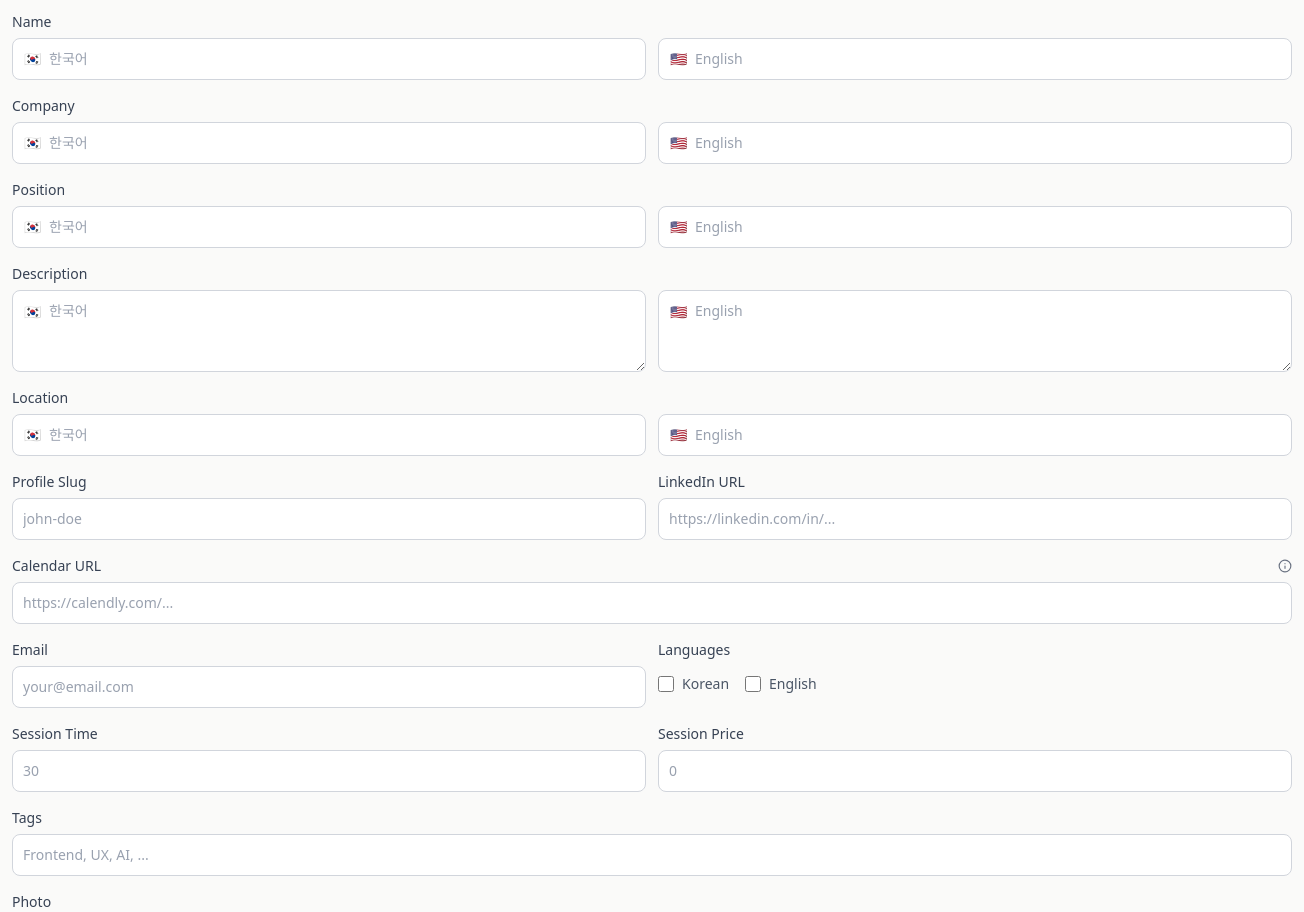
Test: ProfileForm › tag parsing › should normalize display value after blur
Step 1. Type "  React  ,  Node.js  " into the field with placeholder "Frontend, UX, AI, ..." → [652, 855], box top-left (12, 834), bottom-right (1292, 876)
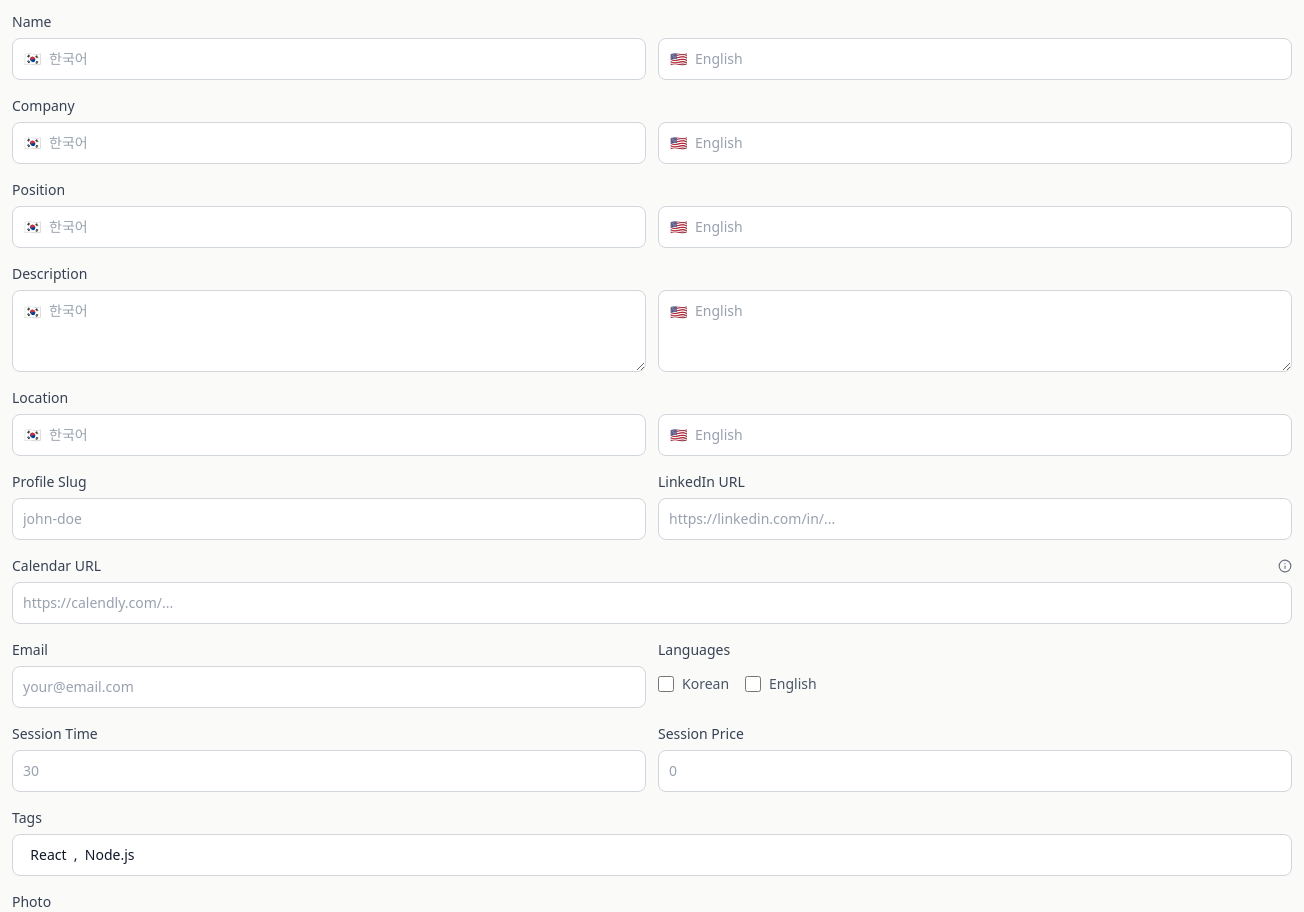
Step 2. Leave the field with placeholder "Frontend, UX, AI, ...", box top-left (12, 834), bottom-right (1292, 876)
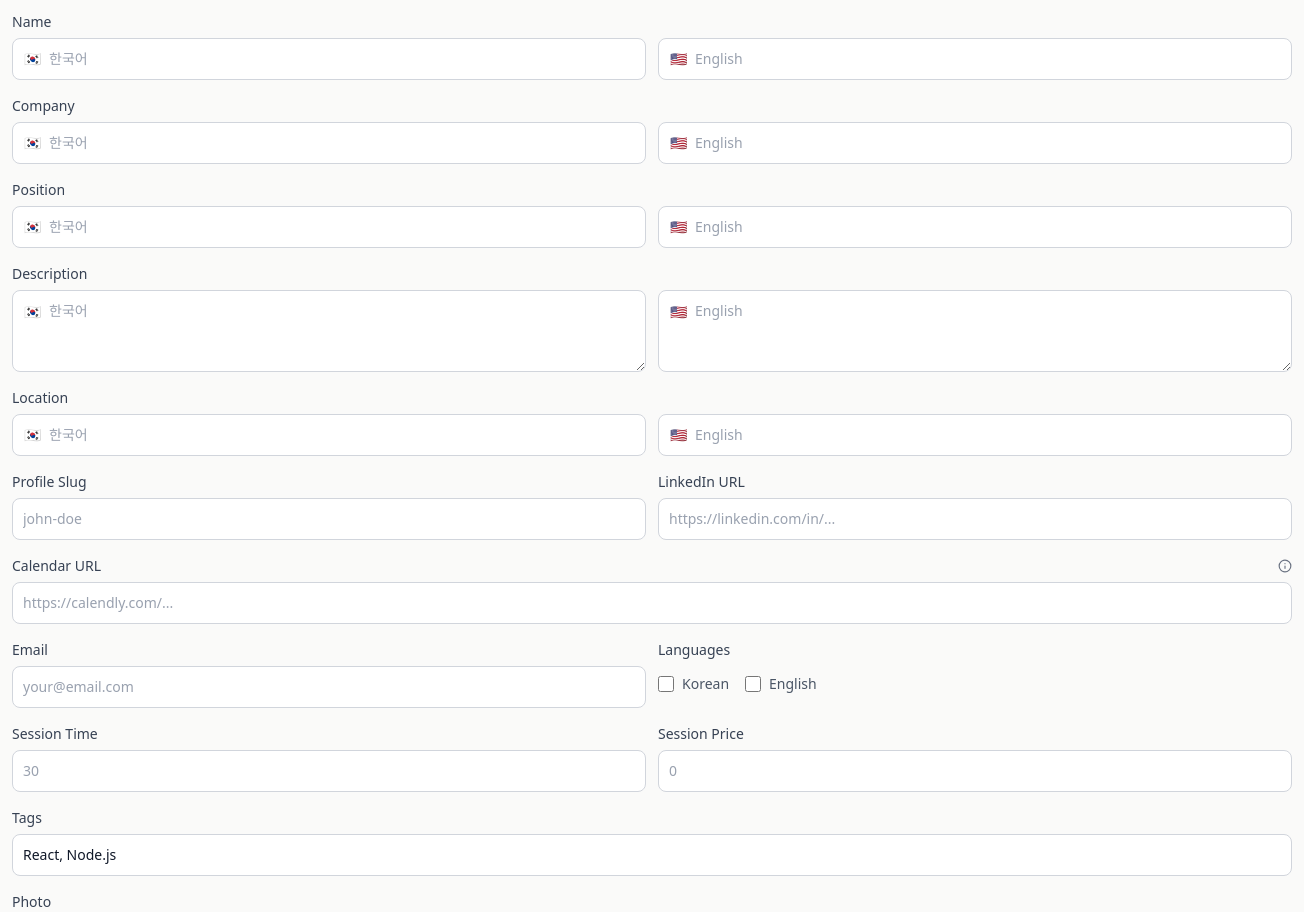
Check: the field with placeholder "Frontend, UX, AI, ..." holds "React, Node.js", box top-left (12, 834), bottom-right (1292, 876)
